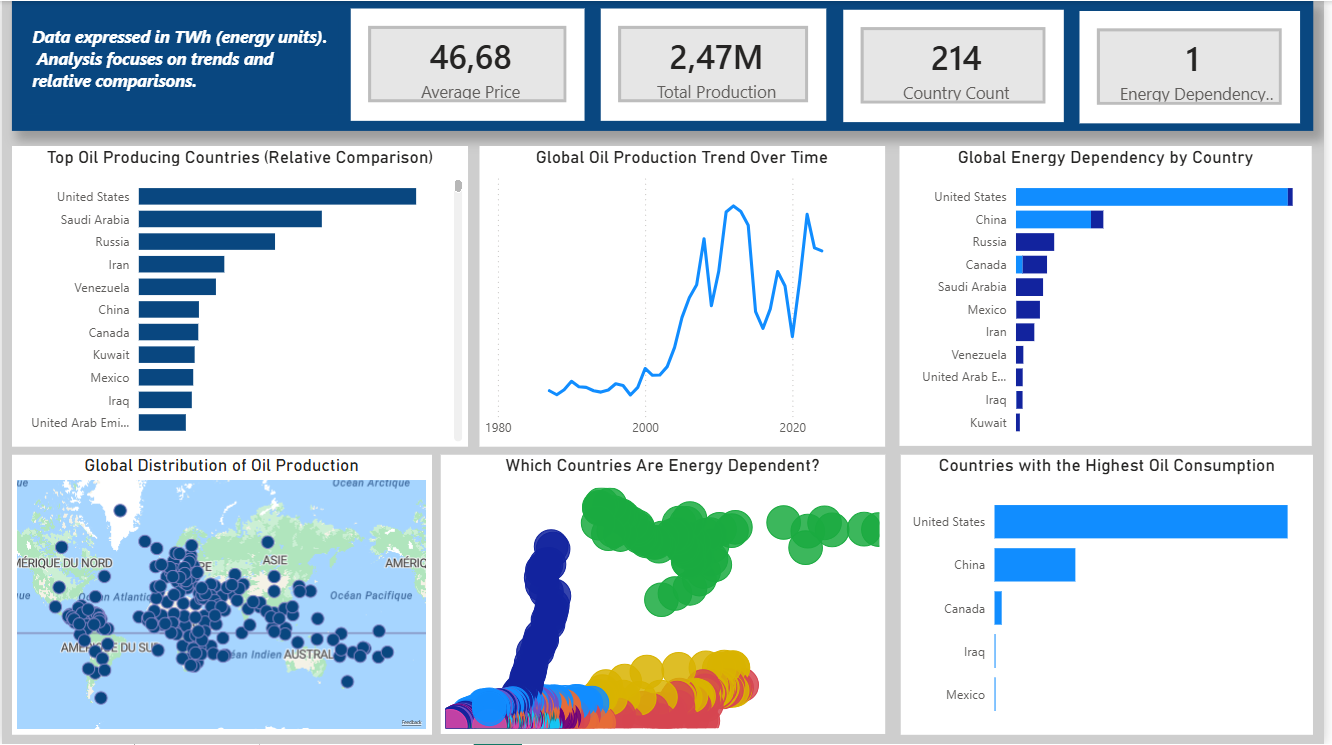

Layout of this report page (visuals, bound fields, positions):
{"tool":"powerbi","page":{"name":"Dashboard","canvas":[1280,720],"ordinal":0},"visuals":[{"type":"textbox","box":[9.7,0,1260.1,125.9],"z":0},{"type":"barChart","title":"Top Oil Producing Countries (Relative Comparison)","fields":{"Category":["Final_Dataset.COUNTRY"],"Y":["Sum(Final_Dataset.PRODUCTION)"]},"box":[10,140,441.2,291.2],"z":1000},{"type":"azureMap","title":"Global Distribution of Oil Production","fields":{"Category":["Final_Dataset.COUNTRY"],"X":["Avg(Final_Dataset.Production Value)"]},"box":[10,440,406.2,270],"z":2000},{"type":"lineChart","title":"Global Oil Production Trend Over Time","fields":{"Category":["Final_Dataset.YEAR"],"Y":["Sum(Final_Dataset.Production Value)"]},"box":[462.5,140,392.5,291.2],"z":3000},{"type":"cardVisual","fields":{"Data":["Final_Dataset.Average Price"]},"box":[337.7,7.3,226.4,108.9],"z":4000},{"type":"cardVisual","fields":{"Data":["Final_Dataset.Country Count"]},"box":[815,8.8,213.8,108.8],"z":5000},{"type":"cardVisual","fields":{"Data":["Final_Dataset.Total Production"]},"box":[580,7.5,218.8,108.8],"z":6000},{"type":"textbox","box":[24.2,18.2,301.4,92],"z":7000},{"type":"scatterChart","title":"Which Countries Are Energy Dependent?","fields":{"X":["Energy_Data.oil_production"],"Series":["Energy_Data.country"],"Size":["CountNonNull(Final_Dataset.Production Value)"],"Y":["Sum(Energy_Data.oil_consumption)"]},"box":[425,440,430,270],"z":8000},{"type":"cardVisual","fields":{"Data":["Final_Dataset.Energy Dependency"]},"box":[1043.8,10,213.8,108.8],"z":9000},{"type":"barChart","title":"Countries with the Highest Oil Consumption","fields":{"Category":["Final_Dataset.COUNTRY"],"Series":["Energy_Data.Dependency Type"],"Y":["Sum(Energy_Data.oil_consumption)"]},"box":[870.3,439.4,399.5,271.2],"z":10000},{"type":"barChart","title":"Global Energy Dependency by Country","fields":{"Category":["Final_Dataset.COUNTRY"],"Series":["Energy_Data.Dependency Type"],"Y":["Sum(Energy_Data.oil_consumption)"]},"box":[869.1,140.4,399.5,290.5],"z":11000}]}

Visuals, with their boxes in screenshot pixels (x1, y1, x2, y2), scaled from the page's 1280x720 canvas onto the 1332x745 screenshot:
textbox: {"x1": 10, "y1": 0, "x2": 1321, "y2": 130}
"Top Oil Producing Countries (Relative Comparison)" barChart: {"x1": 10, "y1": 145, "x2": 470, "y2": 446}
"Global Distribution of Oil Production" azureMap: {"x1": 10, "y1": 455, "x2": 433, "y2": 735}
"Global Oil Production Trend Over Time" lineChart: {"x1": 481, "y1": 145, "x2": 890, "y2": 446}
cardVisual - Final_Dataset.Average Price: {"x1": 351, "y1": 8, "x2": 587, "y2": 120}
cardVisual - Final_Dataset.Country Count: {"x1": 848, "y1": 9, "x2": 1071, "y2": 122}
cardVisual - Final_Dataset.Total Production: {"x1": 604, "y1": 8, "x2": 831, "y2": 120}
textbox: {"x1": 25, "y1": 19, "x2": 339, "y2": 114}
"Which Countries Are Energy Dependent?" scatterChart: {"x1": 442, "y1": 455, "x2": 890, "y2": 735}
cardVisual - Final_Dataset.Energy Dependency: {"x1": 1086, "y1": 10, "x2": 1309, "y2": 123}
"Countries with the Highest Oil Consumption" barChart: {"x1": 906, "y1": 455, "x2": 1321, "y2": 735}
"Global Energy Dependency by Country" barChart: {"x1": 904, "y1": 145, "x2": 1320, "y2": 446}
